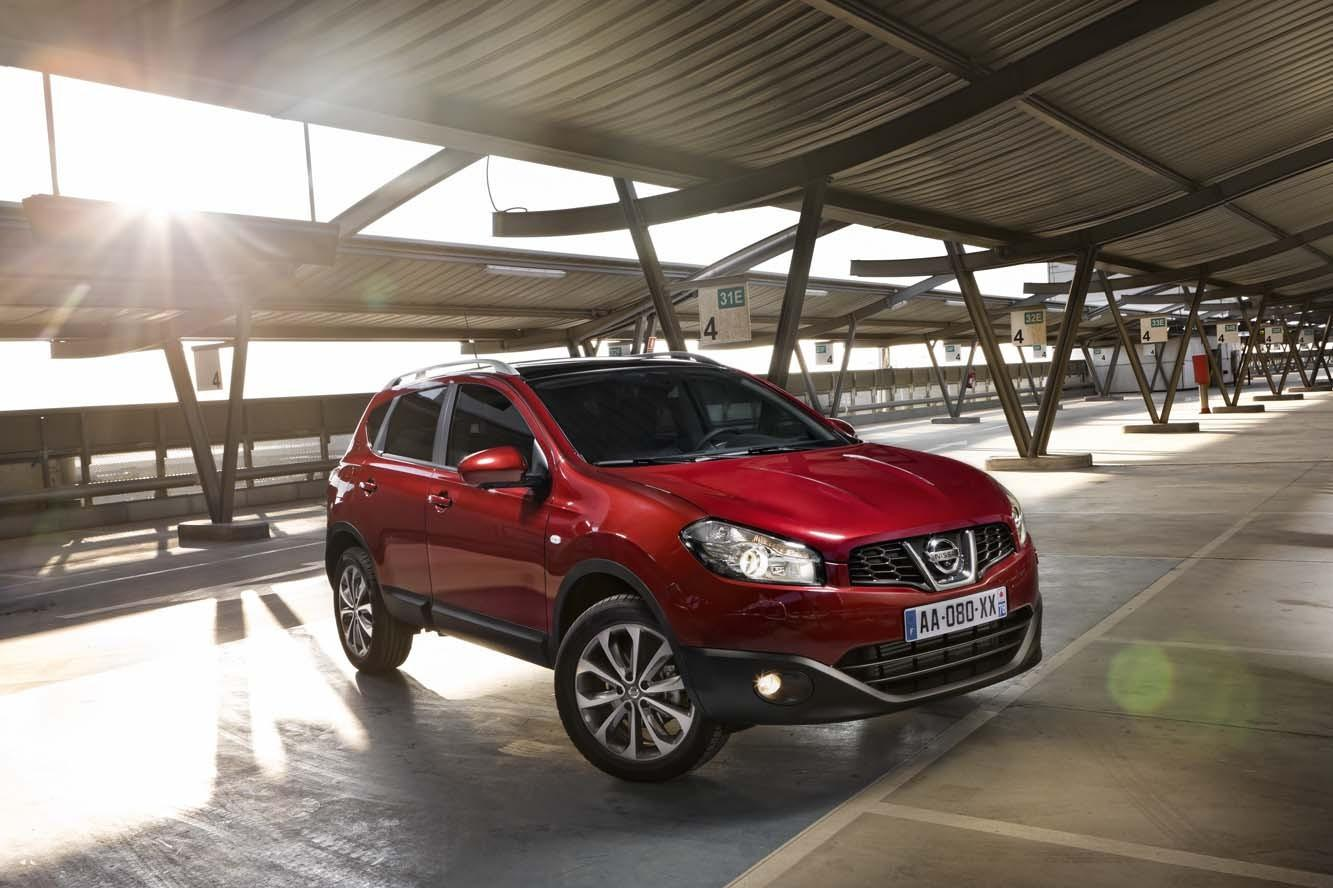car: (271, 382, 1078, 888)
